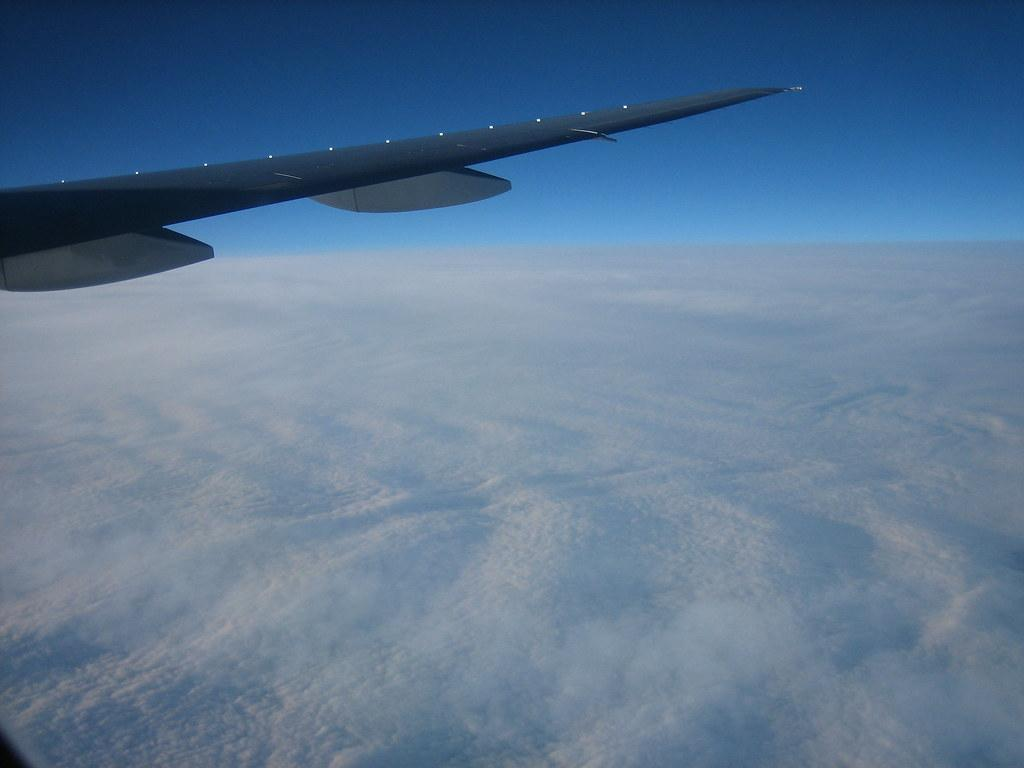plane: (1, 83, 805, 293)
